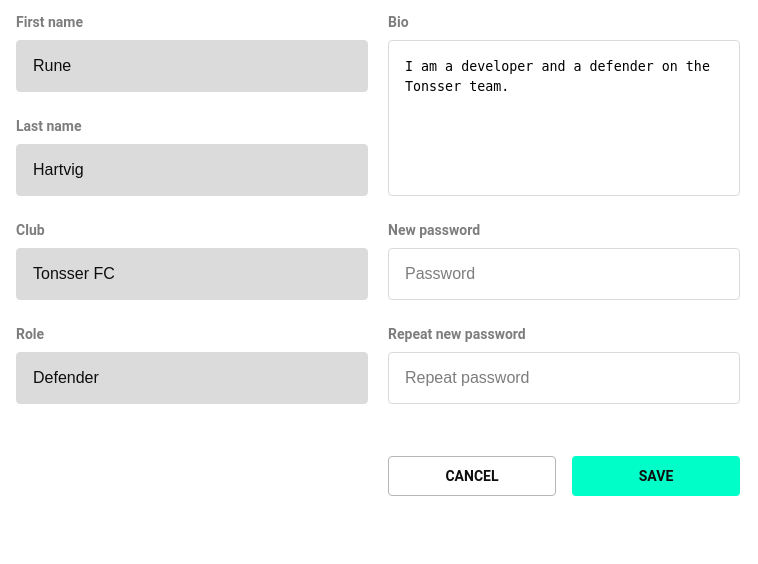
Test: displays error message when password is too short and submit button is clicked
Type "123" into the password field labelled "New password" at (564, 274), box [388,248,740,300]
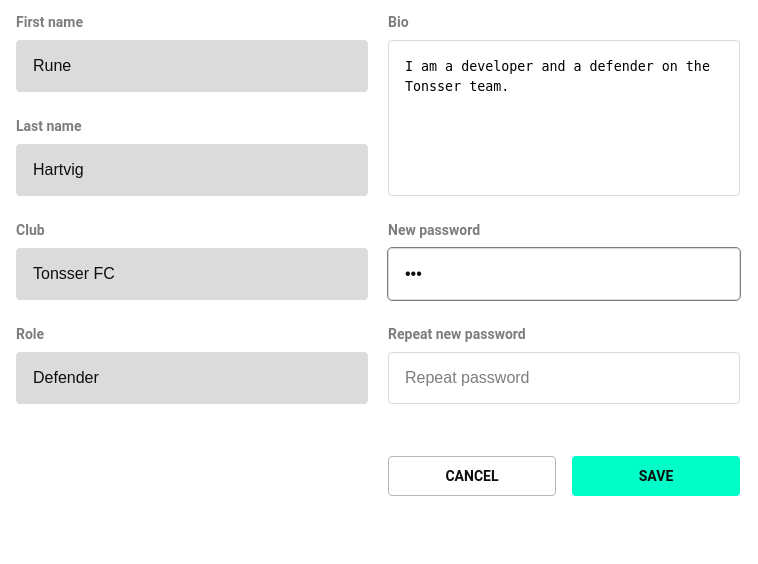
Click the button "Save" at (656, 476), box [572,456,740,496]
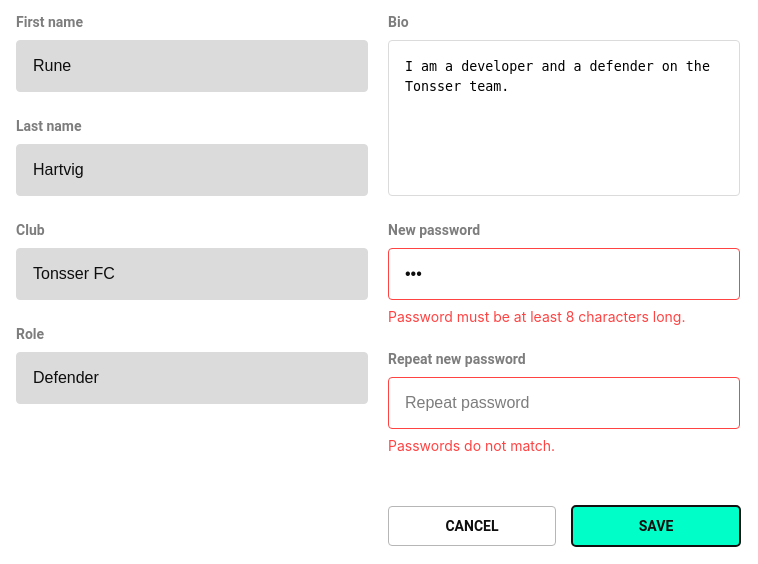
expect the text "Password must be at least 8 characters long." is shown: met, box [388,308,685,325]
